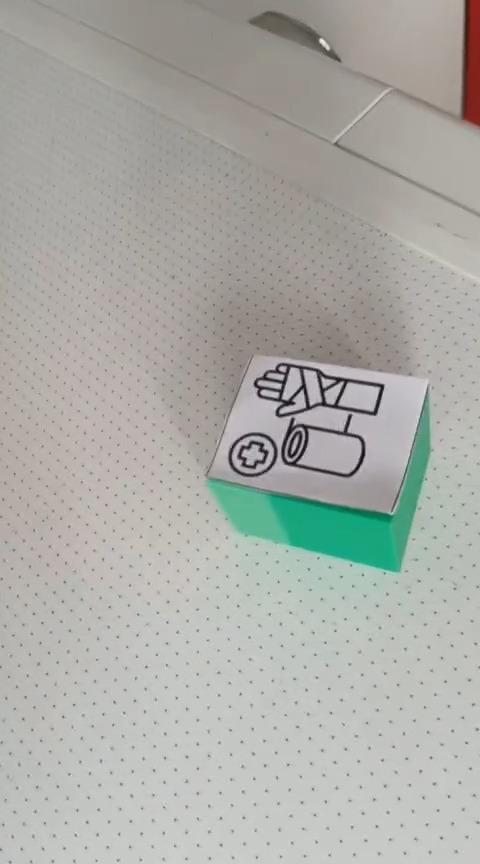Bandages: (204, 352, 430, 575)
